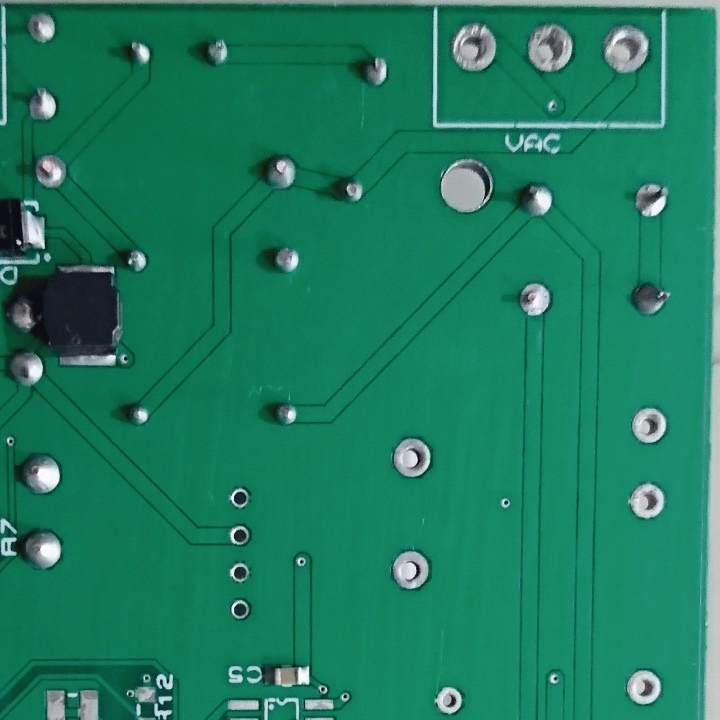F: (522, 20, 576, 77), (447, 20, 501, 76), (600, 20, 650, 76), (389, 435, 436, 480), (623, 477, 667, 524), (390, 546, 433, 593), (628, 179, 673, 223), (629, 401, 671, 447), (621, 666, 666, 708), (514, 279, 553, 320), (26, 83, 60, 124), (24, 9, 60, 46), (33, 152, 67, 190), (433, 680, 468, 715), (226, 558, 257, 583), (227, 483, 253, 510), (228, 521, 253, 548), (230, 595, 253, 624)
